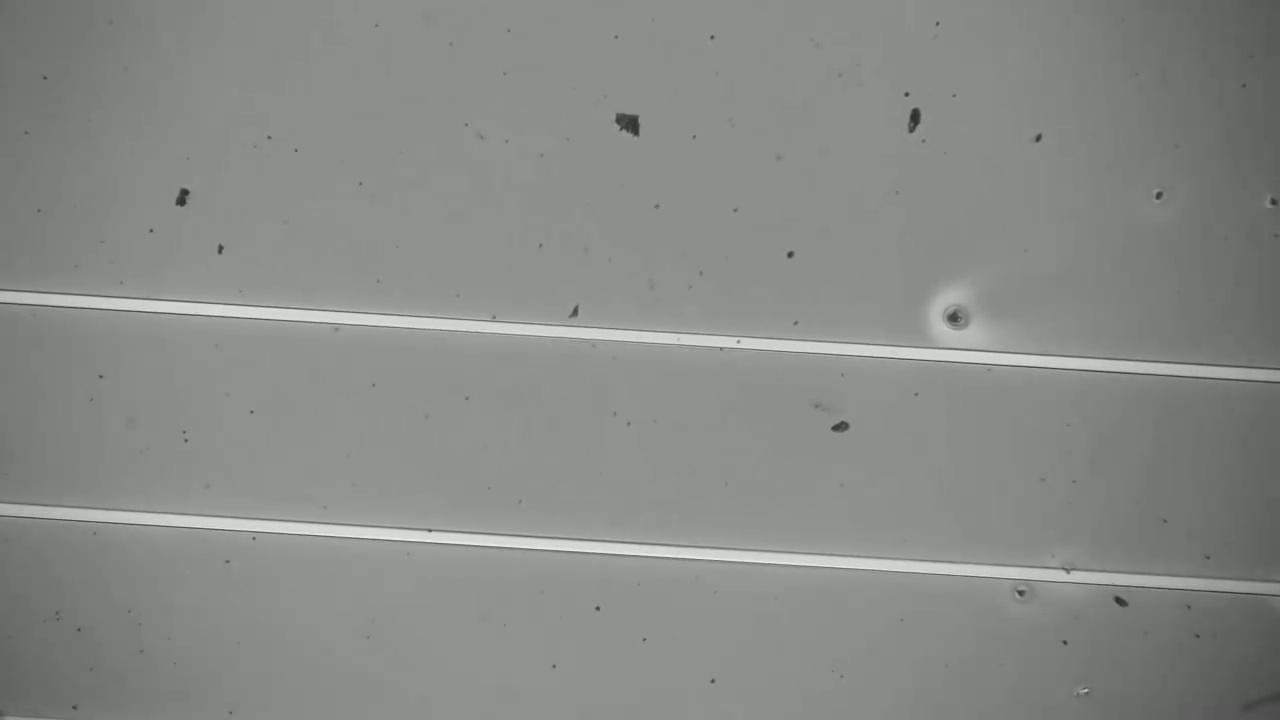stains_enbedded: (1053, 558, 1080, 588)
